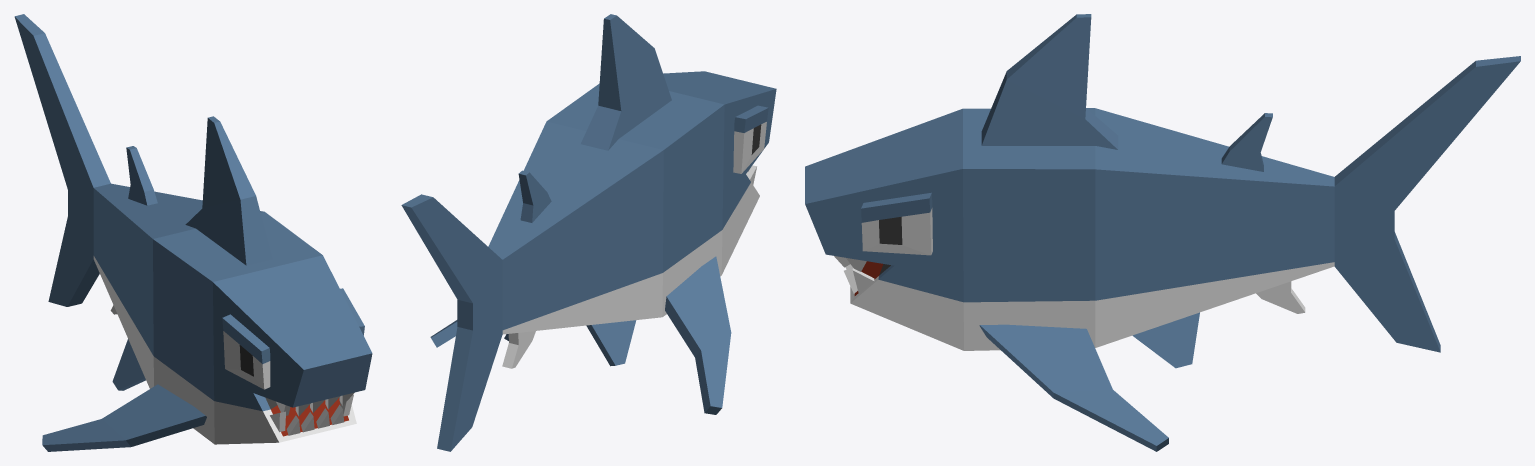
File: eat_frame_2.fbx
The picture shows the model from 3 angles, left to right: view 1: azimuth 30°, elevation 25°; view 2: azimuth 150°, elevation 25°; view 3: azimuth 270°, elevation 25°; orthographic projection. The views are drawn at different scales.
Parts seen in each view (by area): view 1: Cube.000; view 2: Cube.000; view 3: Cube.000.
Boxes of the visible parts, bbox=[...] form: Cube.000: bbox=[14, 14, 372, 451]; Cube.000: bbox=[401, 14, 776, 451]; Cube.000: bbox=[805, 14, 1520, 451].
Size of the model in its own units: 4.6 by 5.12 by 9.13.
